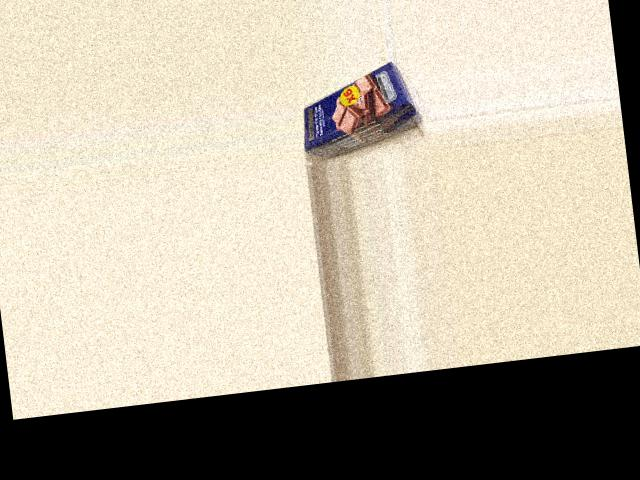chocolate: (295, 58, 416, 158)
